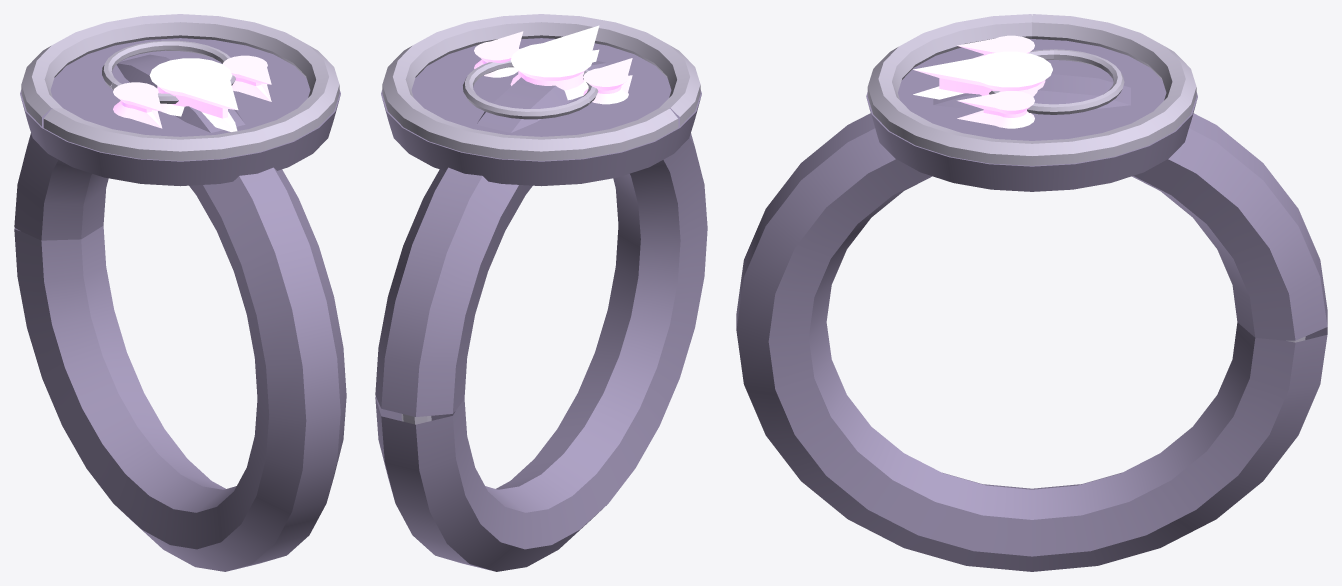
Rendered from boss_wailing_mistress_accessory_2.glb.
3 views of the same model, side by side, from view 1: azimuth 30°, elevation 25°; view 2: azimuth 150°, elevation 25°; view 3: azimuth 270°, elevation 25° (orthographic). The views are drawn at different scales.
Visible parts, largest first — view 1: boss_wailing_mistress_accessory_2; view 2: boss_wailing_mistress_accessory_2; view 3: boss_wailing_mistress_accessory_2.
Boxes of the visible parts, <box> form: boss_wailing_mistress_accessory_2: <box>14,14,346,571</box>; boss_wailing_mistress_accessory_2: <box>375,14,707,571</box>; boss_wailing_mistress_accessory_2: <box>736,14,1327,571</box>.
Bounding box in the file's own units: 0.084 × 0.1378 × 0.1496.
